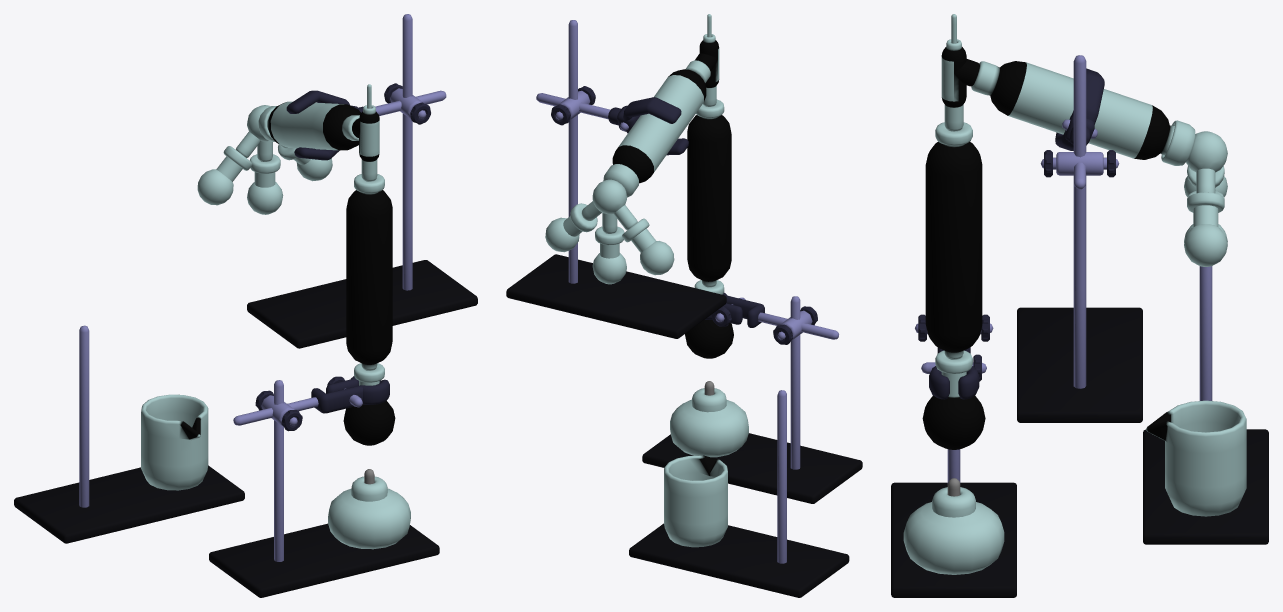
The model's file is LastLuna_Model_Station_Fractional_Distiller.fbx.
3 renders of one model, left to right at view 1: azimuth 30°, elevation 25°; view 2: azimuth 150°, elevation 25°; view 3: azimuth 270°, elevation 25°, orthographic. The views are drawn at different scales.
Visible parts, largest first — view 1: Stand_Base002, Stand_Base001, Fractional_Column001, Stand_Base003, Beaker001, Alcohol_Lamp001, Condenser001, Stand_Pole_Tall001, Flask_Round001, Stand_Pole002, Flask_Round_Small002, Thermometerx001 (+7 smaller); view 2: Stand_Base003, Stand_Base002, Fractional_Column001, Stand_Base001, Beaker001, Condenser001, Alcohol_Lamp001, Multi_Flask_Adapter001, Stand_Pole_Tall001, Stand_Pole002, Stand_Pole001, Flask_Round001 (+8 smaller); view 3: Stand_Base003, Fractional_Column001, Condenser001, Beaker001, Stand_Base001, Stand_Base002, Alcohol_Lamp001, Stand_Pole_Tall001, Flask_Round001, Multi_Flask_Adapter001, Flask_Round_Small003, Thermometerx001 (+6 smaller).
Boxes of the visible parts, x1,y1,x2,y2 form: Stand_Base002: [14, 465, 244, 543]; Stand_Base001: [209, 523, 439, 597]; Fractional_Column001: [346, 174, 392, 370]; Stand_Base003: [247, 260, 477, 348]; Beaker001: [141, 394, 208, 490]; Alcohol_Lamp001: [328, 476, 410, 549]; Condenser001: [267, 101, 360, 150]; Stand_Pole_Tall001: [402, 14, 412, 290]; Flask_Round001: [343, 363, 395, 445]; Stand_Pole002: [79, 325, 89, 507]; Flask_Round_Small002: [197, 146, 252, 205]; Thermometerx001: [352, 84, 379, 181]; Stand_Base003: [506, 254, 726, 338]; Stand_Base002: [629, 523, 849, 597]; Fractional_Column001: [687, 99, 731, 287]; Stand_Base001: [642, 433, 862, 503]; Beaker001: [664, 455, 727, 547]; Condenser001: [612, 60, 710, 183]; Alcohol_Lamp001: [670, 388, 748, 457]; Multi_Flask_Adapter001: [582, 164, 638, 233]; Stand_Pole_Tall001: [568, 20, 577, 283]; Stand_Pole002: [777, 390, 786, 563]; Stand_Pole001: [790, 296, 800, 469]; Flask_Round001: [685, 280, 733, 358]; Stand_Base003: [1017, 307, 1142, 422]; Fractional_Column001: [925, 122, 982, 359]; Condenser001: [971, 61, 1174, 159]; Beaker001: [1146, 400, 1246, 516]; Stand_Base001: [891, 482, 1016, 597]; Stand_Base002: [1143, 429, 1268, 544]; Alcohol_Lamp001: [903, 487, 1004, 574]; Stand_Pole_Tall001: [1073, 55, 1086, 388]; Flask_Round001: [922, 350, 985, 449]; Multi_Flask_Adapter001: [1161, 120, 1227, 193]; Flask_Round_Small003: [1184, 192, 1227, 266]; Thermometerx001: [941, 14, 979, 131].
Size of the model in its own units: 400 by 500 by 300.
